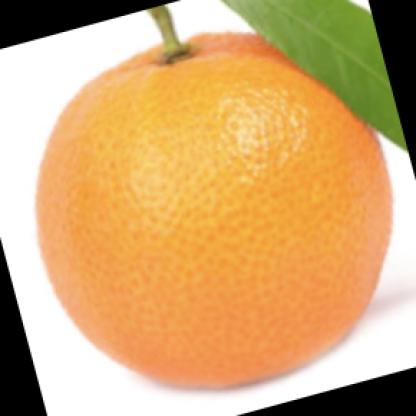orange: (36, 17, 396, 407)
